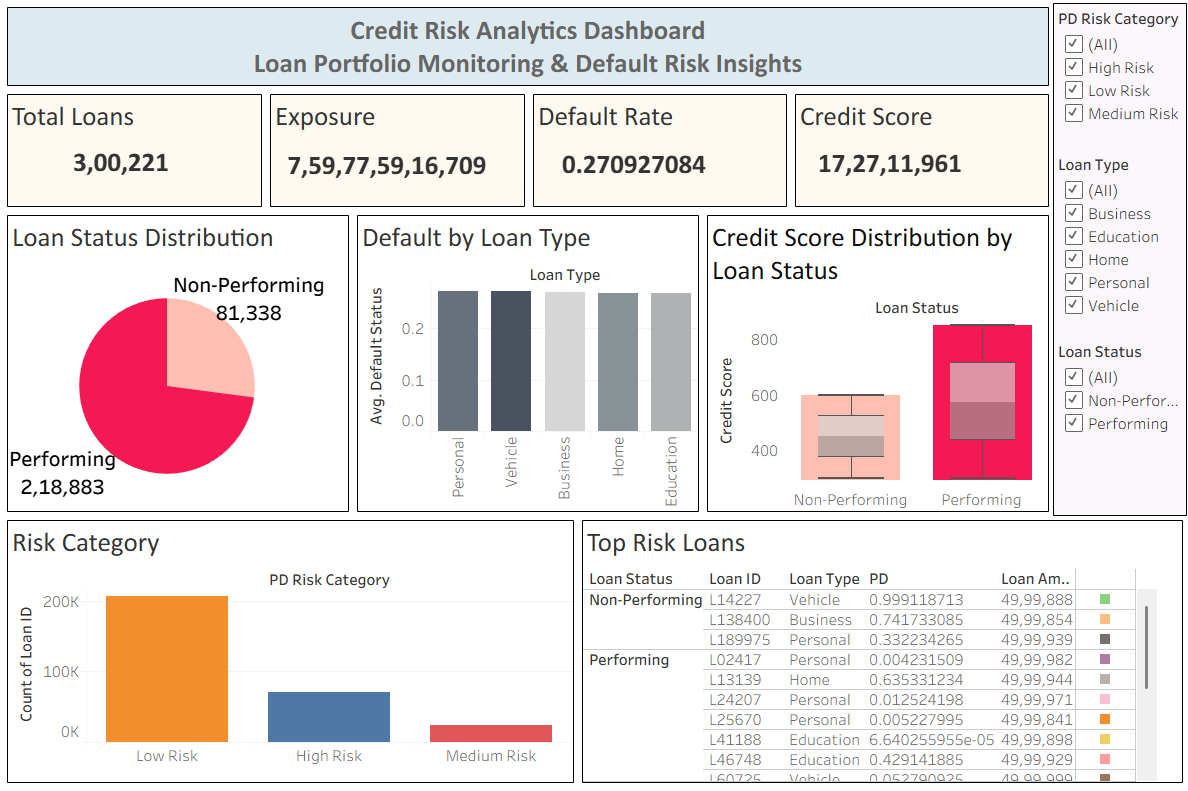

This screenshot's page, from the dashboard's own definition file:
{"tool":"tableau","page":{"name":"Dashboard 1","canvas":[1200,800],"ordinal":0},"visuals":[{"type":"text","box":[8,8,1050,87]},{"type":"filter","title":"Risk Category","param":"[federated.0c5pr4q1s1gdzc1edbs3w0p9do7j].[none:PD_Risk_Category:nk]","box":[1059,9,132,146]},{"type":"worksheet","title":"KPI - Total Loans","mark":"Automatic","box":[8,95,263,121]},{"type":"worksheet","title":"KPI - Exposure","mark":"Automatic","box":[271,95,263,121]},{"type":"worksheet","title":"KPI - Default Rate","mark":"Automatic","box":[534,95,262,121]},{"type":"worksheet","title":"KPI - Credit Score","mark":"Automatic","box":[796,95,262,121]},{"type":"filter","title":"Risk Category","param":"[federated.0c5pr4q1s1gdzc1edbs3w0p9do7j].[none:Loan_Type:nk]","box":[1059,155,132,187]},{"type":"worksheet","title":"Loan Status Distribution","mark":"Pie","box":[8,216,350,305]},{"type":"worksheet","title":"Default by Loan Type","mark":"Bar","rows":["Default_Status"],"cols":["Loan_Type"],"box":[358,216,350,305]},{"type":"worksheet","title":"Boxplot1","mark":"Automatic","rows":["Credit_Score"],"cols":["Loan_Status"],"box":[708,216,350,305]},{"type":"filter","title":"Risk Category","param":"[federated.0c5pr4q1s1gdzc1edbs3w0p9do7j].[none:Loan_Status:nk]","box":[1059,342,132,178]},{"type":"worksheet","title":"Risk Category","mark":"Automatic","rows":["Loan_ID"],"cols":["PD_Risk_Category"],"box":[8,521,575,271]},{"type":"worksheet","title":"Top Risk Loans","mark":"Automatic","rows":["Loan_Status","Loan_ID","Loan_Type","PD","Loan_Amount"],"box":[583,521,609,271]}]}

Visuals, with their boxes in screenshot pixels (x1, y1, x2, y2), scaled from the page's 1200x800 canvas onto the 1188x791 screenshot:
text: <region>8, 8, 1047, 94</region>
"Risk Category" filter: <region>1048, 9, 1179, 153</region>
"KPI - Total Loans" worksheet: <region>8, 94, 268, 214</region>
"KPI - Exposure" worksheet: <region>268, 94, 529, 214</region>
"KPI - Default Rate" worksheet: <region>529, 94, 788, 214</region>
"KPI - Credit Score" worksheet: <region>788, 94, 1047, 214</region>
"Risk Category" filter: <region>1048, 153, 1179, 338</region>
"Loan Status Distribution" worksheet (Pie marks): <region>8, 214, 354, 515</region>
"Default by Loan Type" worksheet (Bar marks): <region>354, 214, 701, 515</region>
"Boxplot1" worksheet: <region>701, 214, 1047, 515</region>
"Risk Category" filter: <region>1048, 338, 1179, 514</region>
"Risk Category" worksheet: <region>8, 515, 577, 783</region>
"Top Risk Loans" worksheet: <region>577, 515, 1180, 783</region>
